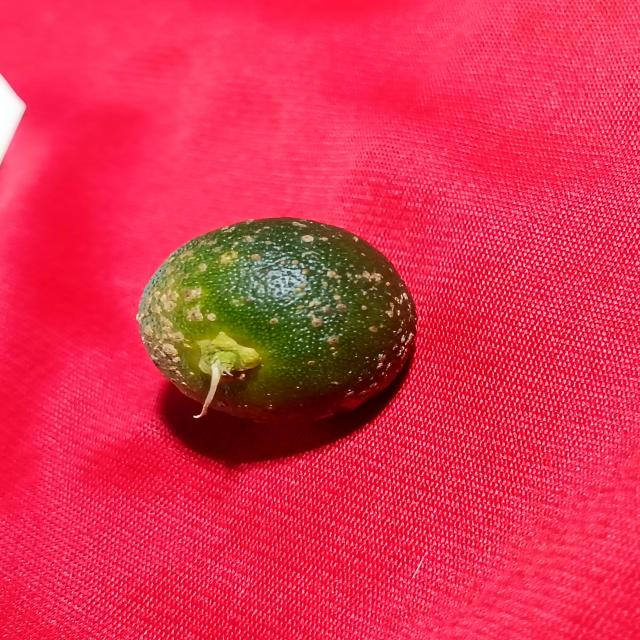scab: (134, 216, 397, 428)
